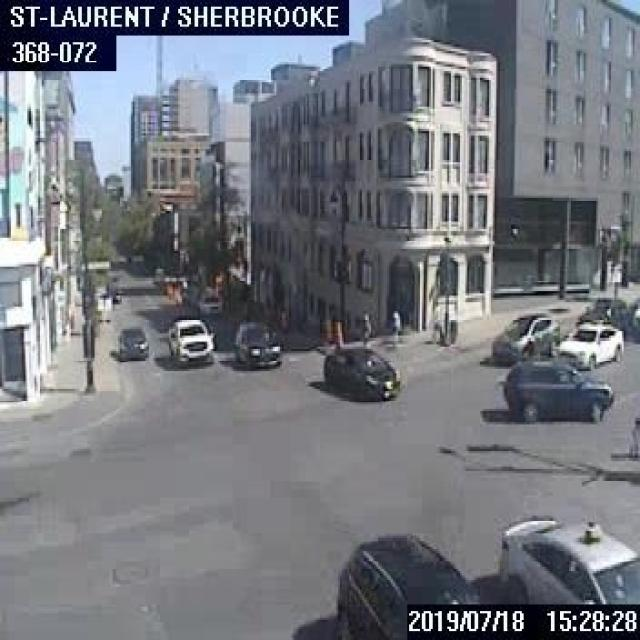construction: (318, 316, 331, 344), (332, 319, 342, 346), (276, 309, 288, 331)
pedestrian: (387, 306, 399, 344), (358, 309, 370, 342)
vehicle: (331, 529, 478, 638), (493, 511, 638, 602), (501, 359, 612, 418), (321, 345, 400, 402), (488, 311, 558, 362), (554, 319, 622, 367), (166, 317, 213, 364), (234, 320, 281, 364), (576, 296, 625, 326), (116, 326, 147, 360), (622, 297, 638, 341), (196, 290, 222, 316)
